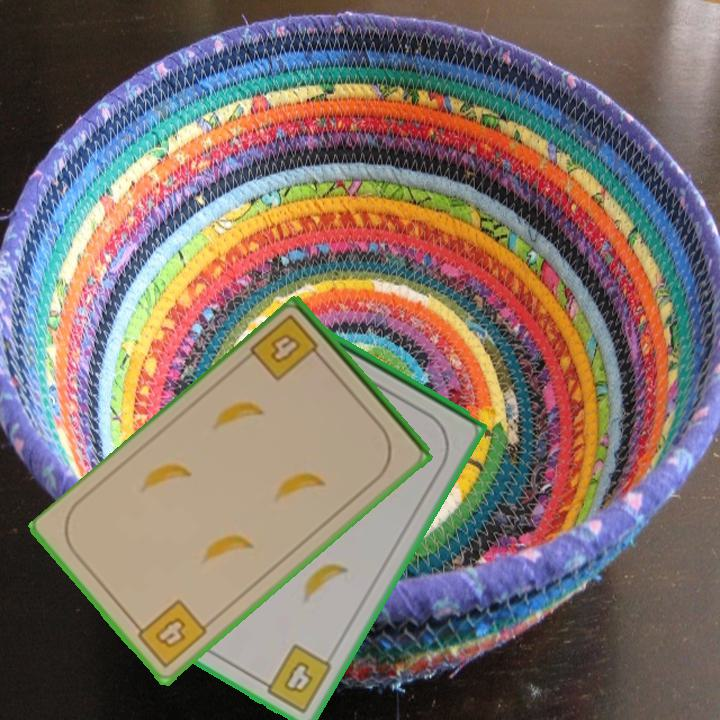4b: (129, 595, 210, 671), (255, 641, 335, 716), (247, 311, 328, 385)
